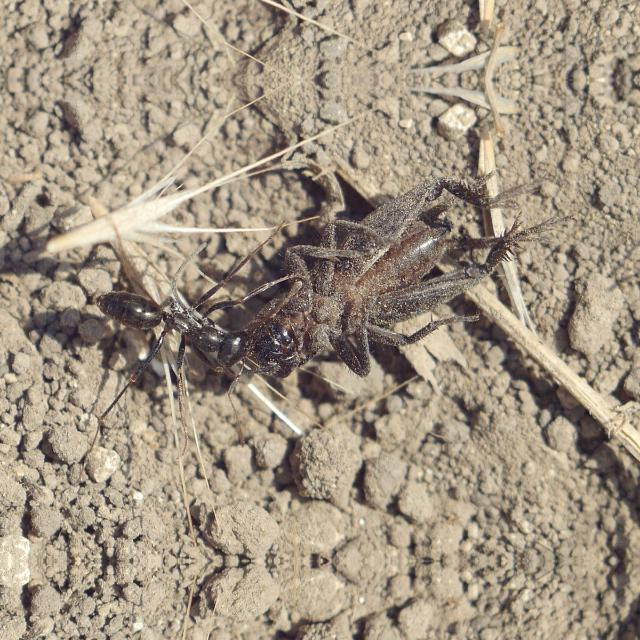Cataglyphis: (70, 265, 322, 395)
